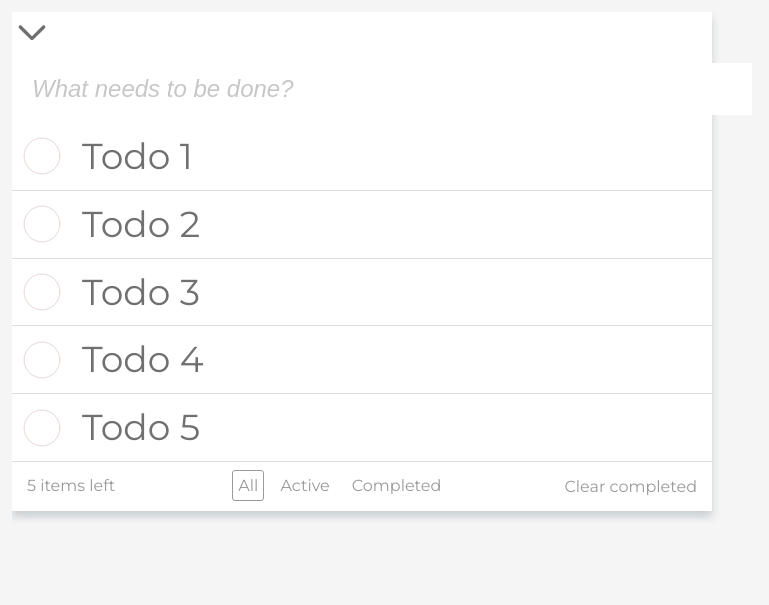
Test: List Component › adds a new todo
The width and height of the screenshot is (769, 605).
Type "New Task" into the field with placeholder "What needs to be done?" at (382, 89), box [12, 63, 752, 115]
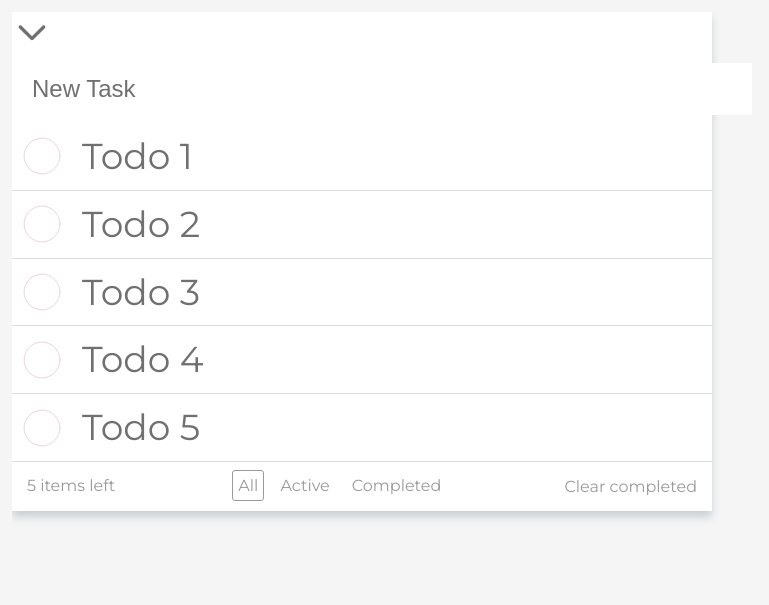
Click the button titled "Add" at (32, 32), box [12, 12, 52, 52]
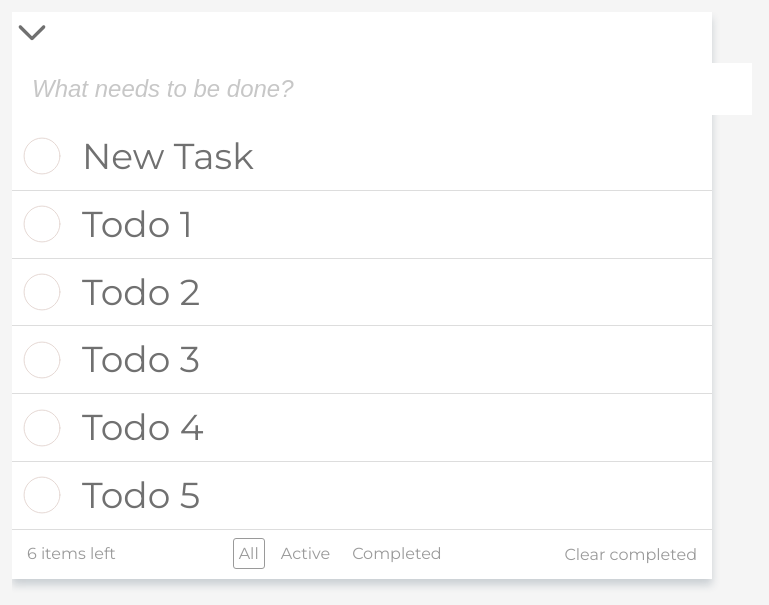
expect the text "New Task" is shown: met, box [82, 133, 254, 180]
